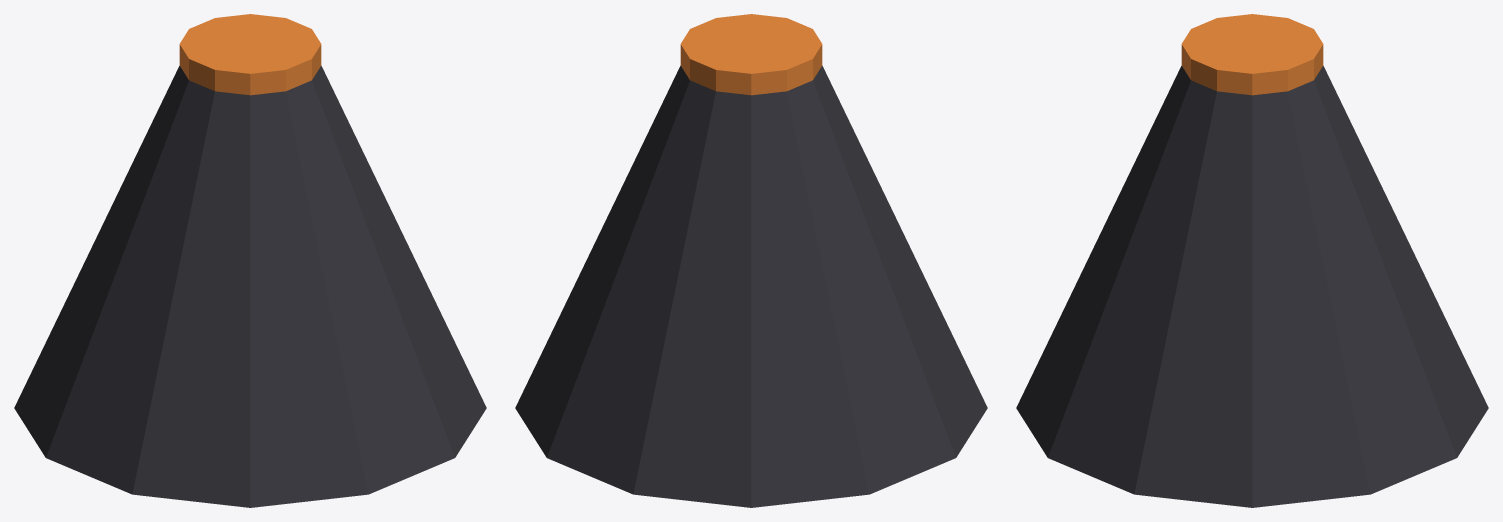
Rendered from sm_product_volcanic_souvenir.glb.
3 views of the same model, side by side, from view 1: azimuth 30°, elevation 25°; view 2: azimuth 150°, elevation 25°; view 3: azimuth 270°, elevation 25° (orthographic).
Visible parts, largest first — view 1: volcanic_souvenir_0, volcanic_souvenir_1; view 2: volcanic_souvenir_0, volcanic_souvenir_1; view 3: volcanic_souvenir_0, volcanic_souvenir_1.
Boxes of the visible parts, x1=… form: volcanic_souvenir_0: x1=14, y1=65, x2=486, y2=507; volcanic_souvenir_1: x1=179, y1=14, x2=321, y2=95; volcanic_souvenir_0: x1=515, y1=65, x2=987, y2=507; volcanic_souvenir_1: x1=680, y1=14, x2=822, y2=95; volcanic_souvenir_0: x1=1016, y1=65, x2=1488, y2=507; volcanic_souvenir_1: x1=1181, y1=14, x2=1323, y2=95.
Size of what is drawn, in the model's own units: 0.2 by 0.17 by 0.2.
